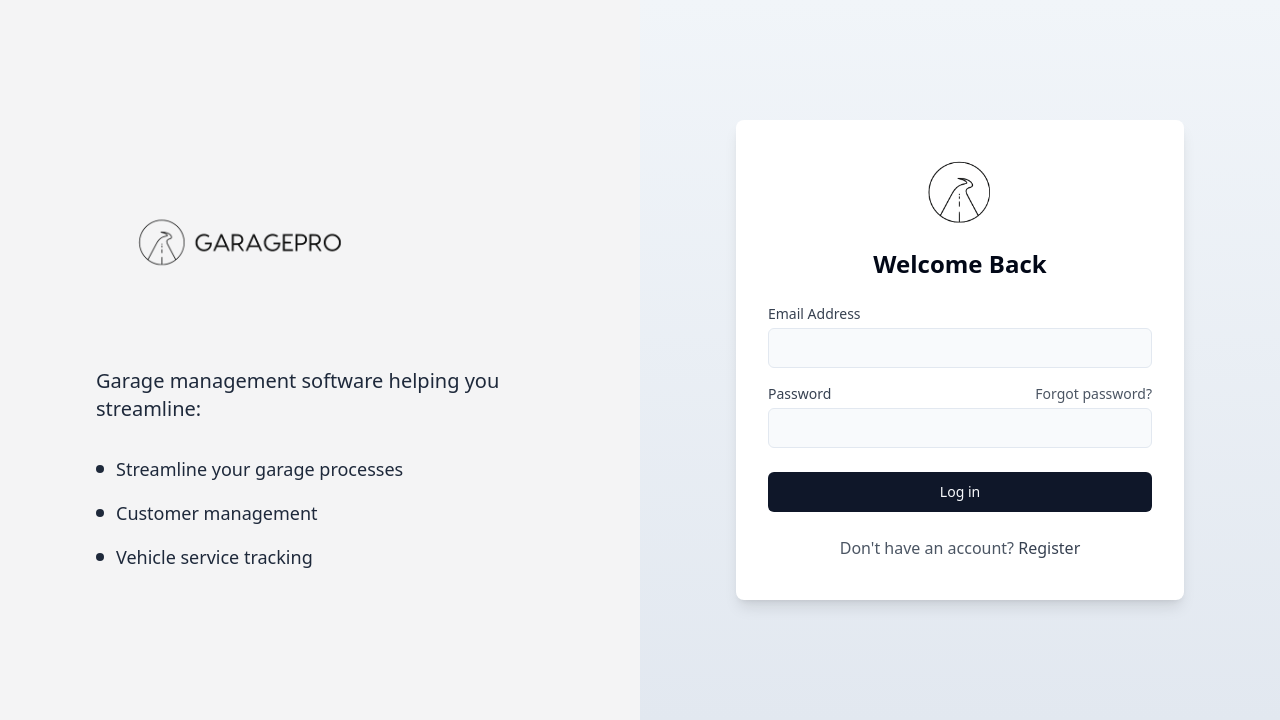
Test case: Login page › shows error for invalid credentials
Type "john@example.com" into the field labelled "Email Address" at (960, 348), box [768,328,1152,368]
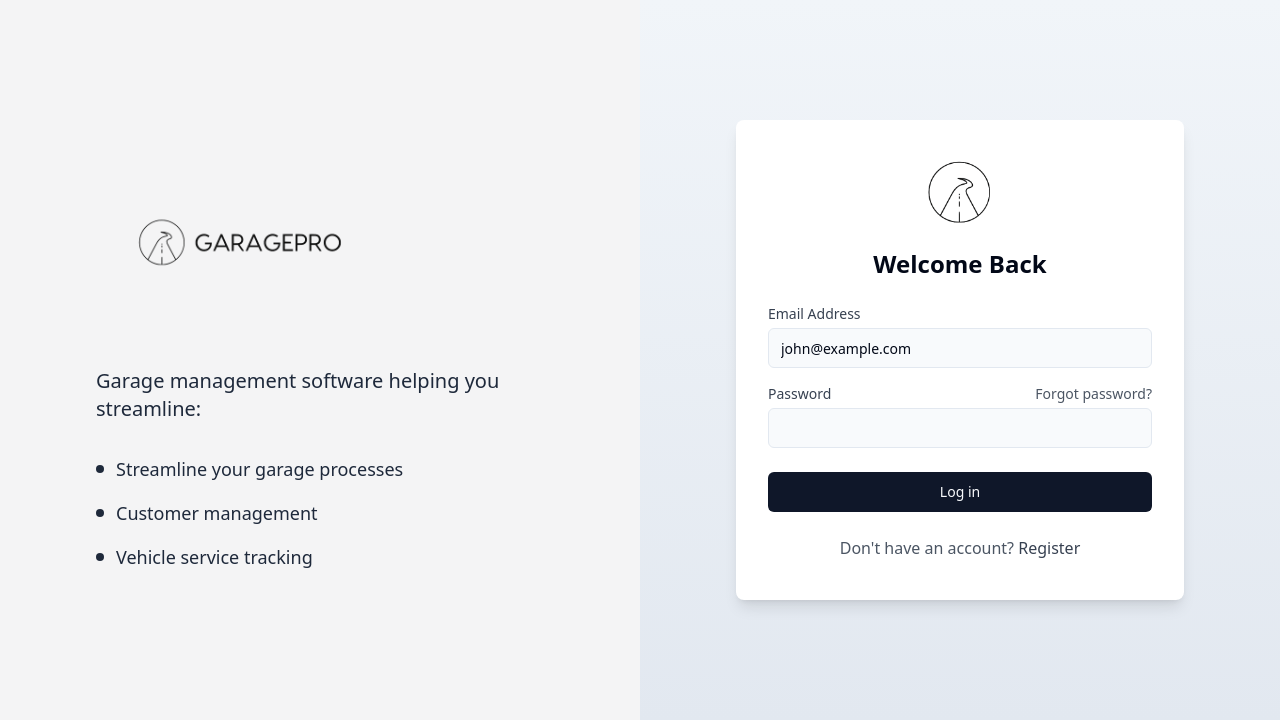
Type "wrongpass" into the password field labelled "Password" at (960, 428), box [768,408,1152,448]
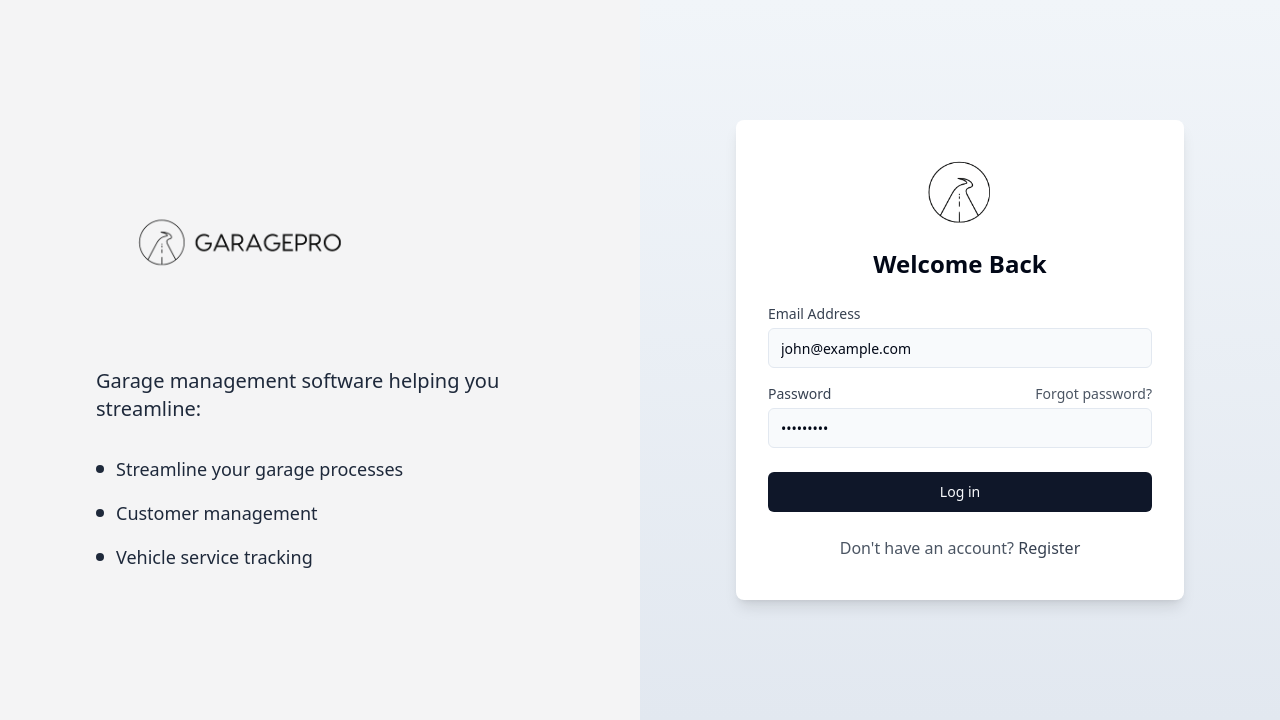
Click the button "Log in" at (960, 492), box [768,472,1152,512]
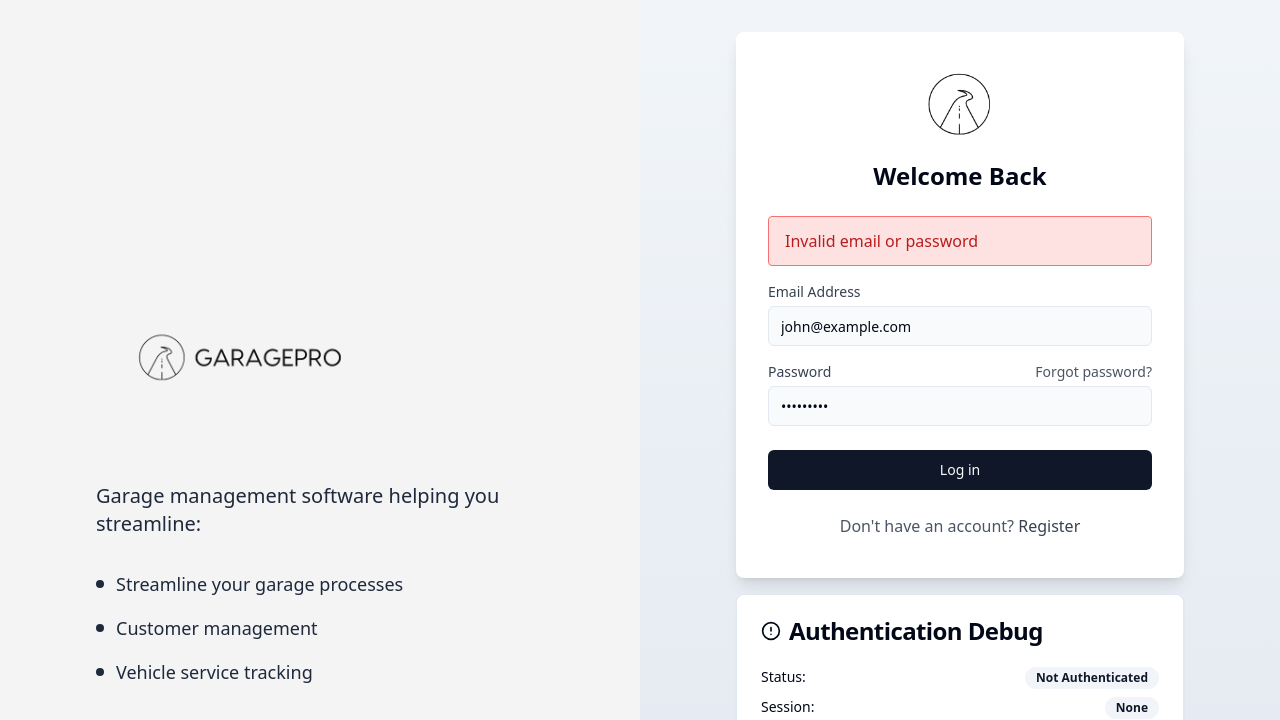
Check: the text "Invalid email or password" is shown, box [785,230,978,252]
